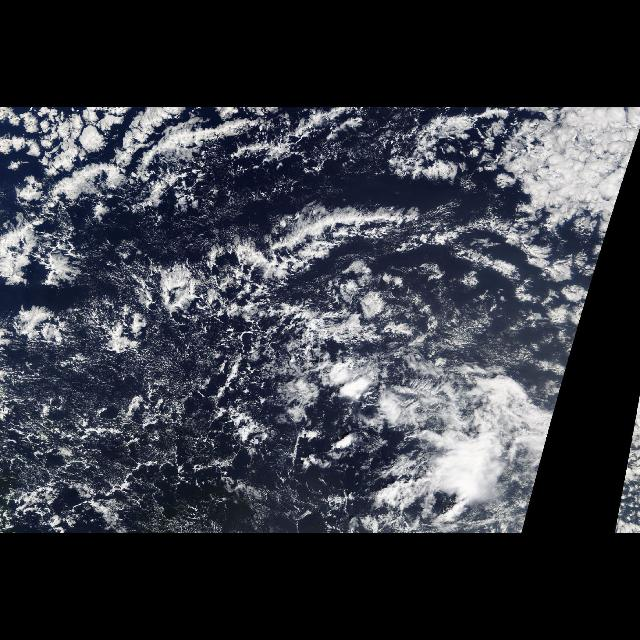Fish: (22, 188, 494, 362)
Gravel: (11, 346, 375, 528)
